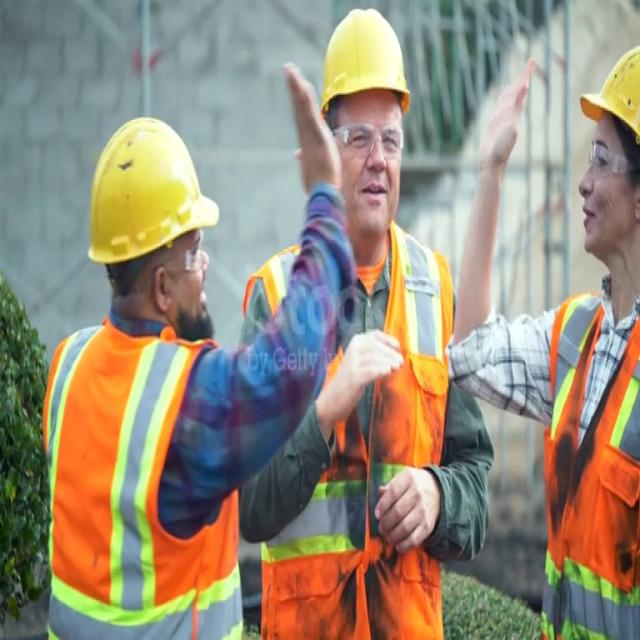capacete: (66, 119, 230, 268), (306, 10, 422, 115), (572, 30, 640, 152)
